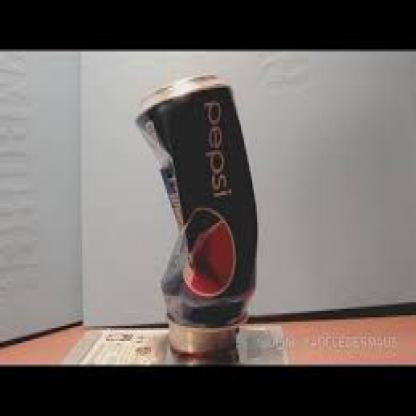METAL: (132, 71, 257, 356)
